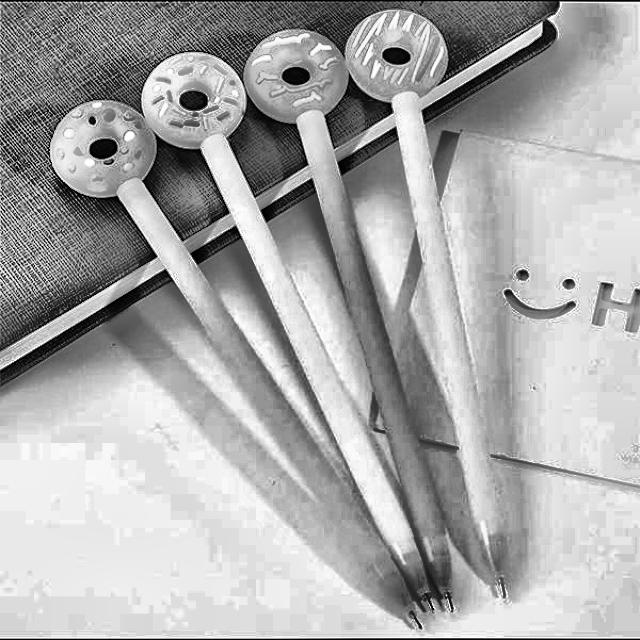Notebook: (0, 0, 557, 396)
Pen: (43, 96, 421, 605), (144, 53, 437, 604), (243, 24, 466, 604), (350, 14, 510, 607)
